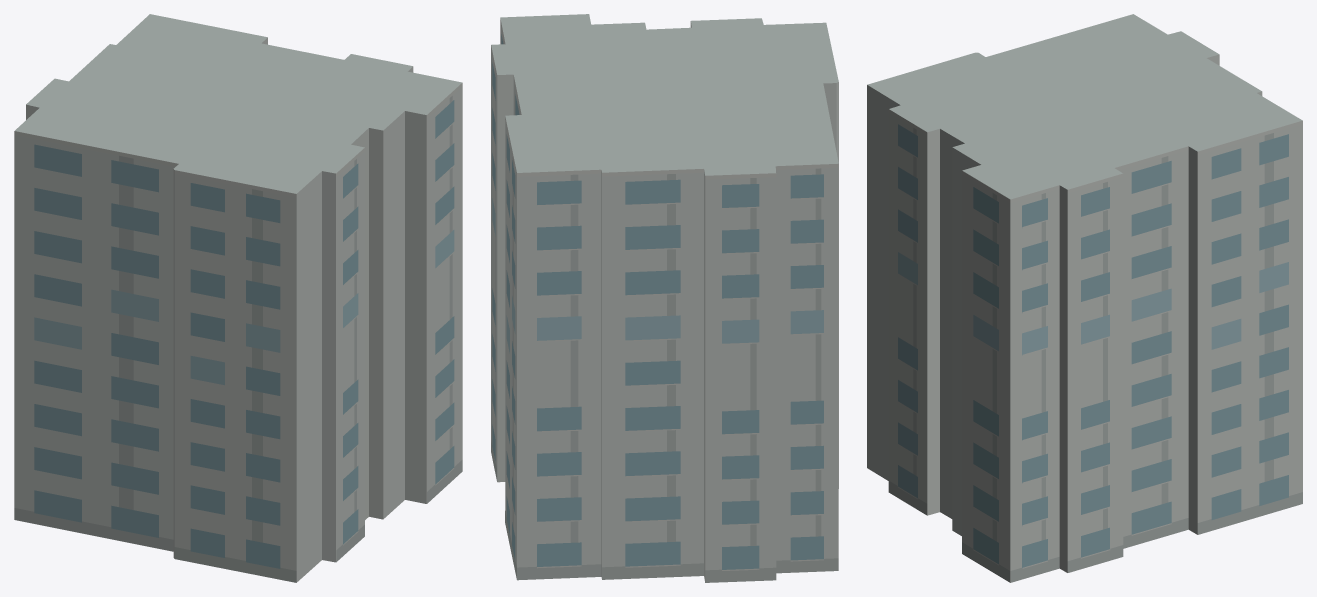
The model's file is survey-upis-32989656.glb.
3 views of the same model, side by side, from view 1: azimuth 30°, elevation 25°; view 2: azimuth 150°, elevation 25°; view 3: azimuth 270°, elevation 25° (orthographic). The views are drawn at different scales.
Visible parts, largest first — view 1: survey-upis-32989656.tmp; view 2: survey-upis-32989656.tmp; view 3: survey-upis-32989656.tmp.
Part boxes in pixels (x1,y1,x2,y2): survey-upis-32989656.tmp: (14, 14, 462, 582); survey-upis-32989656.tmp: (491, 14, 838, 582); survey-upis-32989656.tmp: (867, 14, 1302, 582).
Bounding box in the file's own units: 25.85 × 24.9 × 25.66.
